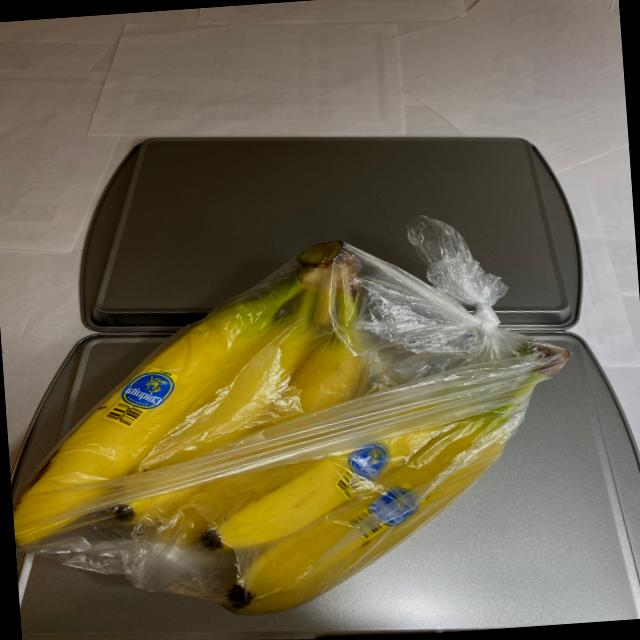banana: (4, 218, 588, 628)
